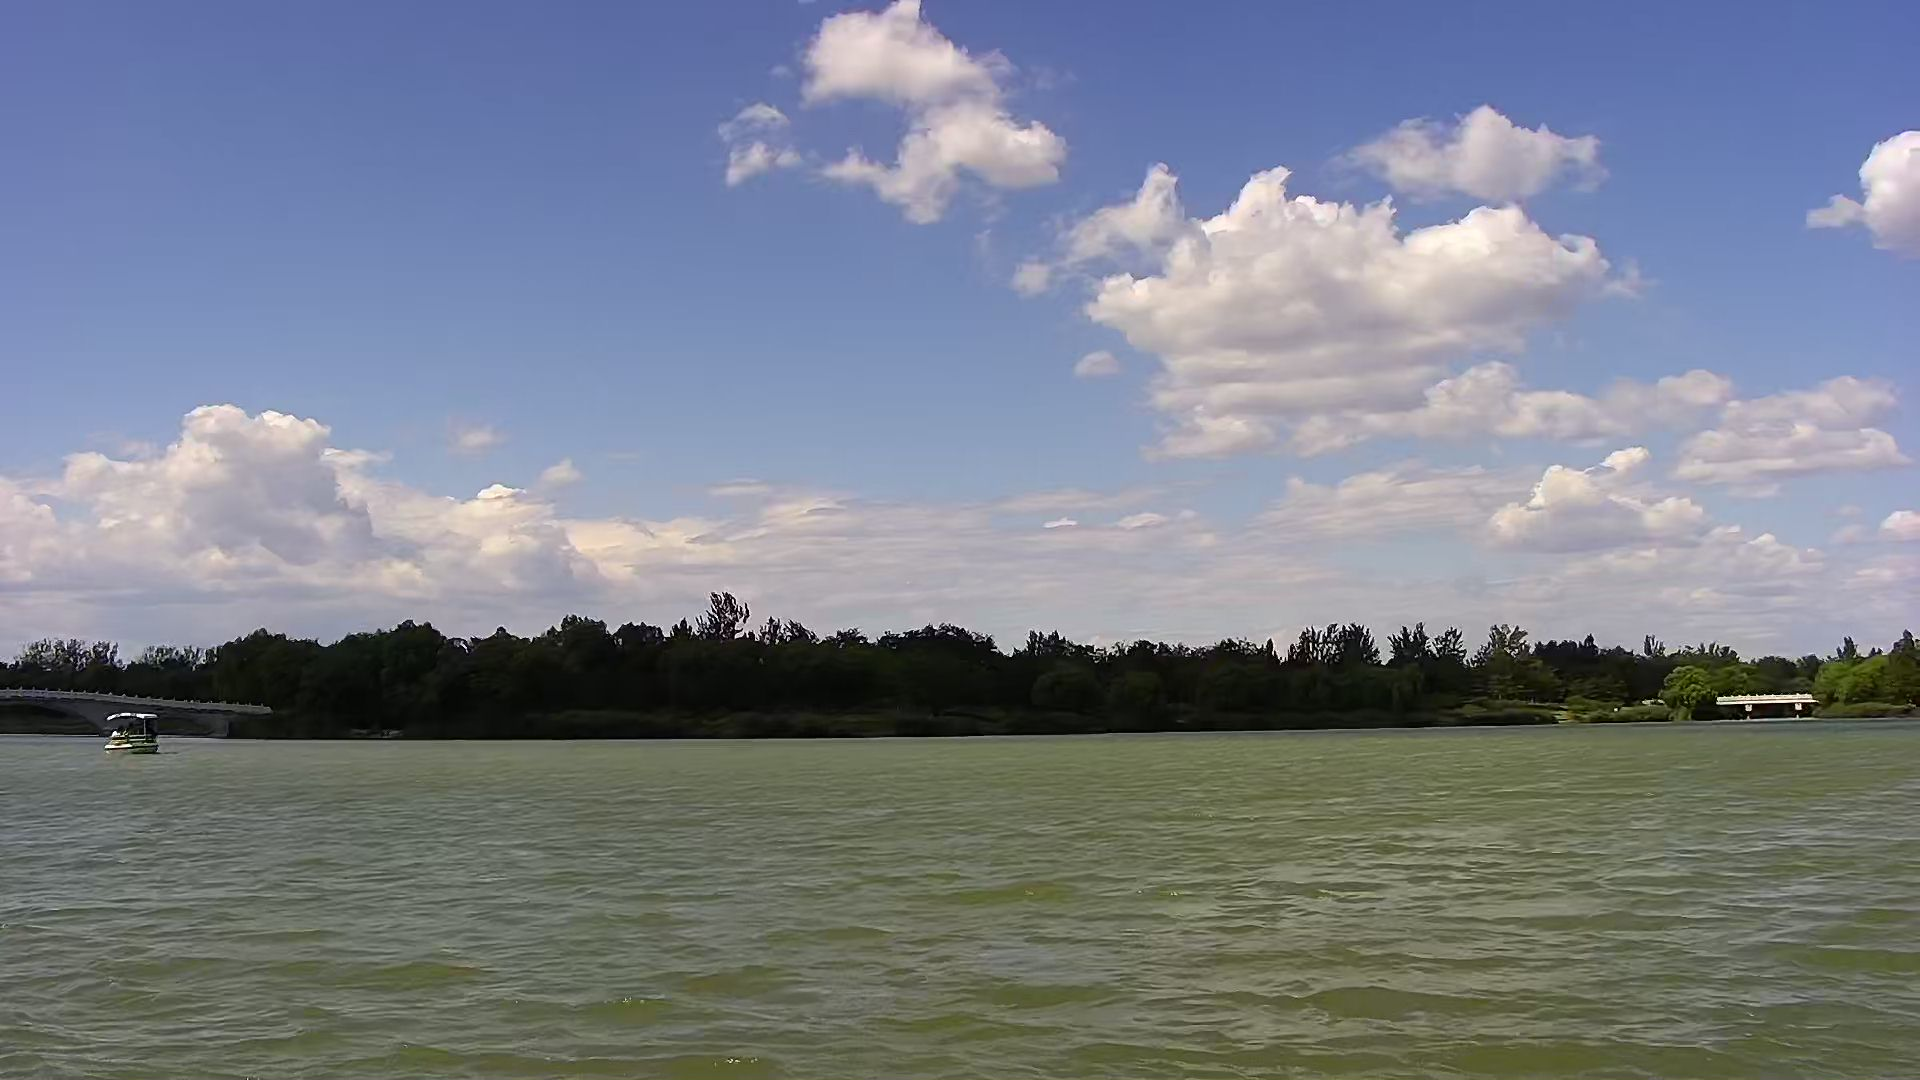boat: (94, 709, 170, 762)
bridge: (1, 688, 274, 744), (1712, 688, 1818, 728)
